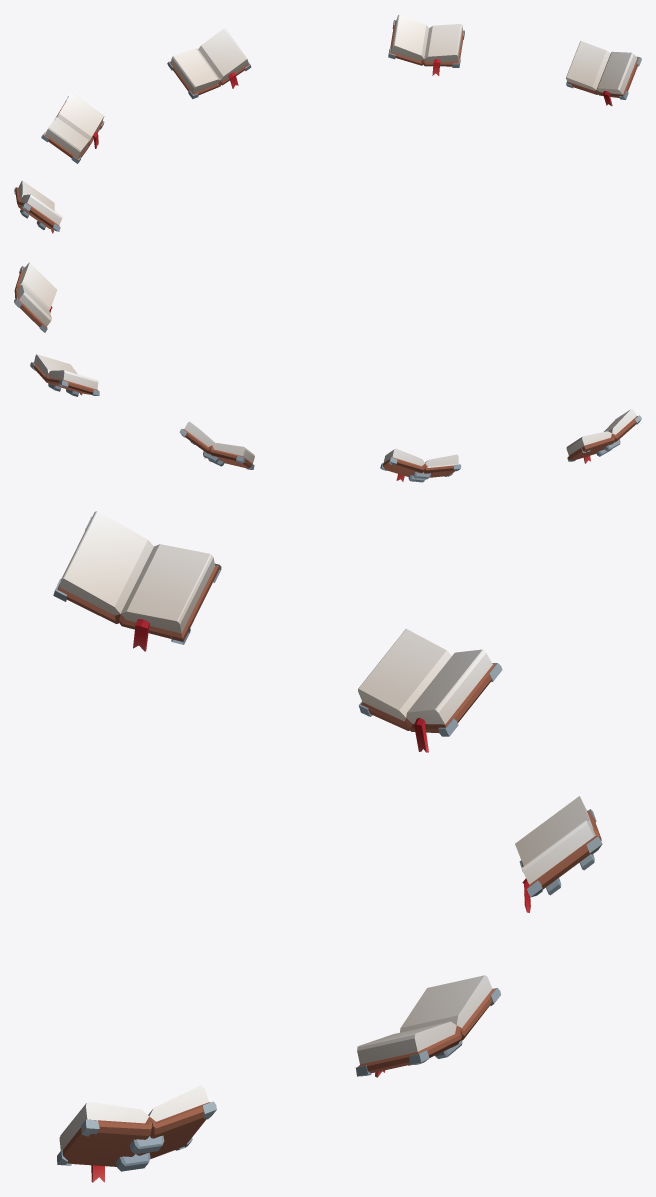
File: magicBooks.glb
3 views of the same model, one above another, from view 1: azimuth 30°, elevation 25°; view 2: azimuth 150°, elevation 25°; view 3: azimuth 270°, elevation 25° (orthographic). The views are drawn at different scales.
Visible parts, largest first — view 1: magicBooks; view 2: magicBooks; view 3: magicBooks.
Part boxes in pixels (box(x1,y1,x2,y2)): magicBooks: box(14, 14, 641, 233); magicBooks: box(14, 262, 641, 482); magicBooks: box(53, 511, 602, 1182).
Size of the model in its own units: 11.93 by 0.9922 by 4.59.
Materials: 1 (1 with a texture image).
